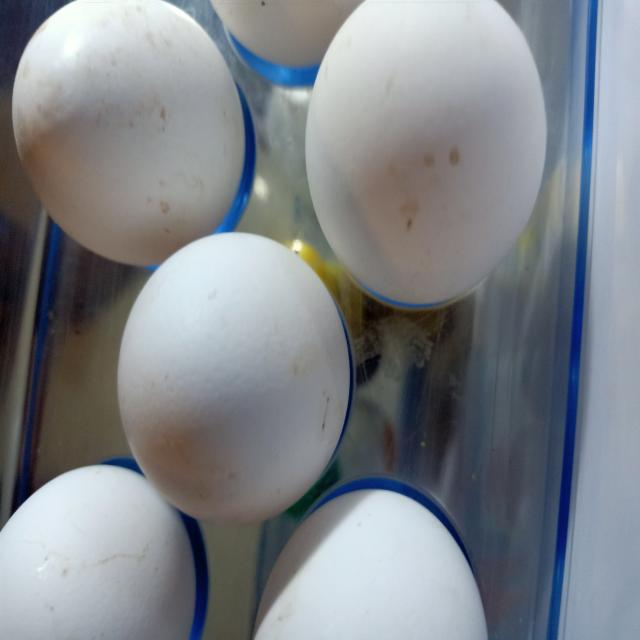Egg: (304, 0, 548, 313), (117, 232, 355, 532), (10, 0, 258, 269)
